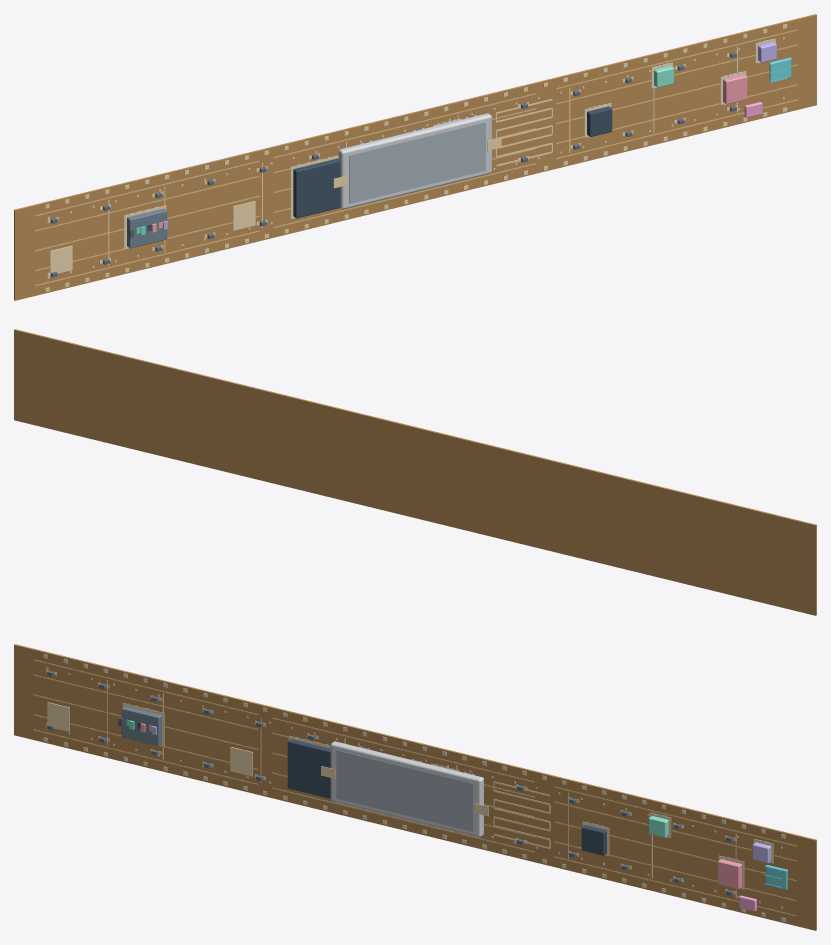
The model's file is LATAMinds_MigraRing_electronica.glb.
3 renders of one model, top to bottom at view 1: azimuth 30°, elevation 25°; view 2: azimuth 150°, elevation 25°; view 3: azimuth 330°, elevation 25°, orthographic.
Visible parts, largest first — view 1: 264_PCB flexible, capa dieléctrica, 435_BAT · aislamiento, 434_BAT · celda curva equivalente, 365_MCU · package, 405_PPG · package, 385_MEMS · package, 415_PRESSURE · package, 452_EDA pad plano 2, 451_EDA pad plano 1; view 2: 264_PCB flexible, capa dieléctrica; view 3: 264_PCB flexible, capa dieléctrica, 435_BAT · aislamiento, 434_BAT · celda curva equivalente, 365_MCU · package, 405_PPG · package, 385_MEMS · package, 415_PRESSURE · package, 452_EDA pad plano 2, 451_EDA pad plano 1.
Part boxes in pixels (x1,y1,x2,y2): 264_PCB flexible, capa dieléctrica: [14, 14, 816, 300]; 435_BAT · aislamiento: [349, 122, 485, 203]; 434_BAT · celda curva equivalente: [338, 113, 491, 209]; 365_MCU · package: [293, 158, 340, 218]; 405_PPG · package: [127, 208, 167, 248]; 385_MEMS · package: [587, 106, 612, 136]; 415_PRESSURE · package: [723, 74, 747, 104]; 452_EDA pad plano 2: [233, 201, 255, 230]; 451_EDA pad plano 1: [50, 245, 72, 275]; 264_PCB flexible, capa dieléctrica: [14, 329, 816, 615]; 264_PCB flexible, capa dieléctrica: [14, 644, 816, 930]; 435_BAT · aislamiento: [336, 750, 473, 831]; 434_BAT · celda curva equivalente: [330, 741, 483, 837]; 365_MCU · package: [287, 739, 330, 798]; 405_PPG · package: [121, 706, 161, 746]; 385_MEMS · package: [581, 825, 606, 855]; 415_PRESSURE · package: [717, 859, 741, 889]; 452_EDA pad plano 2: [230, 747, 252, 776]; 451_EDA pad plano 1: [47, 702, 69, 731].
Size of the model in its own units: 0.0574 by 0.00618 by 0.000875.
